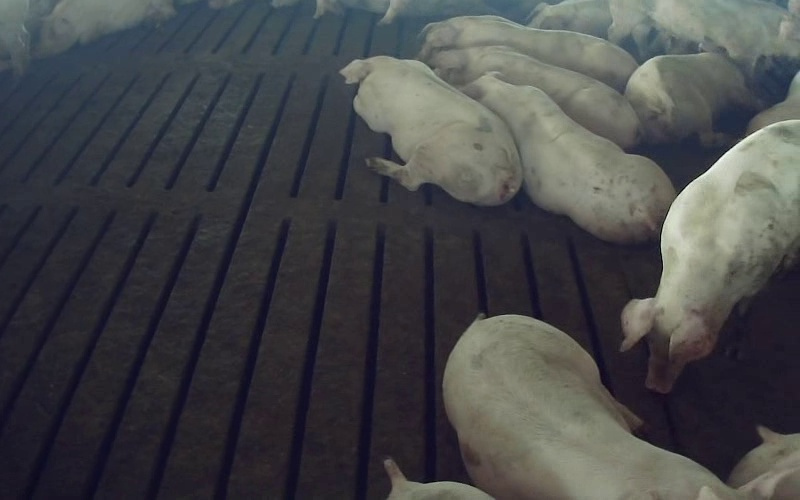pig: (443, 315, 799, 499), (621, 120, 799, 392), (464, 74, 675, 243), (340, 56, 522, 204), (428, 46, 638, 148), (419, 15, 637, 90), (625, 53, 757, 142), (37, 0, 174, 56)
